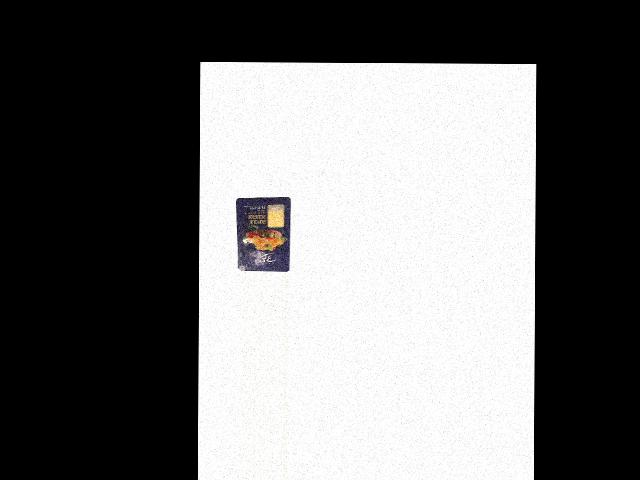cheese: (233, 196, 290, 272)
